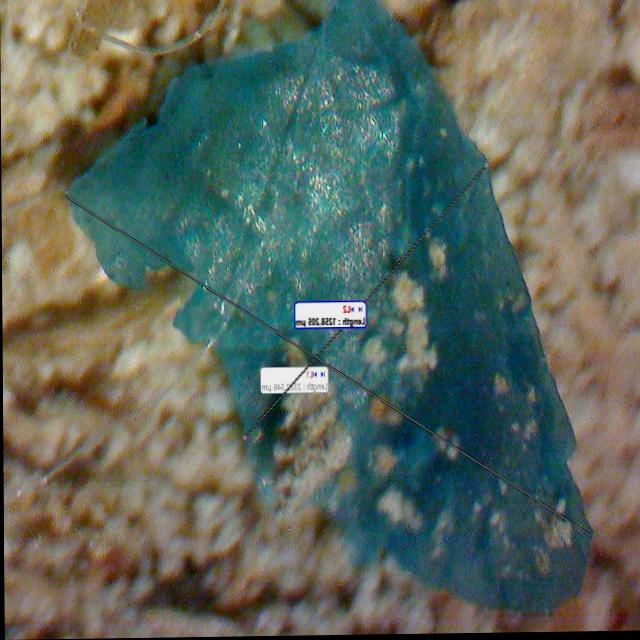microplastic: (56, 0, 594, 624)
